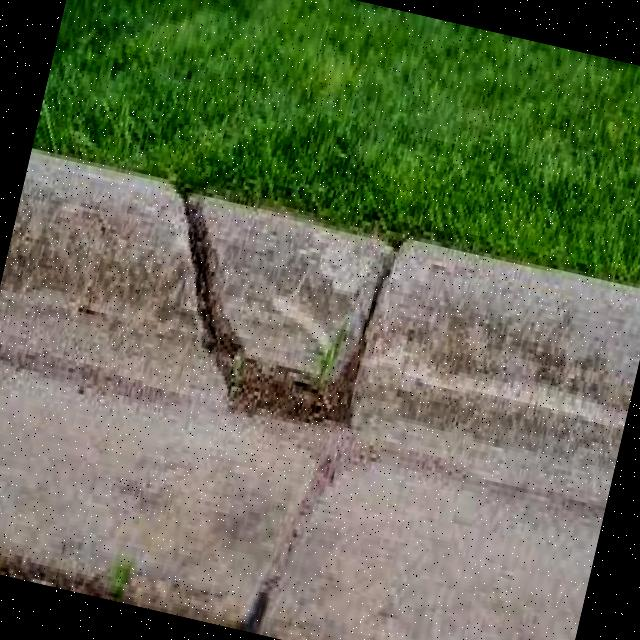curb: (1, 147, 640, 501)
